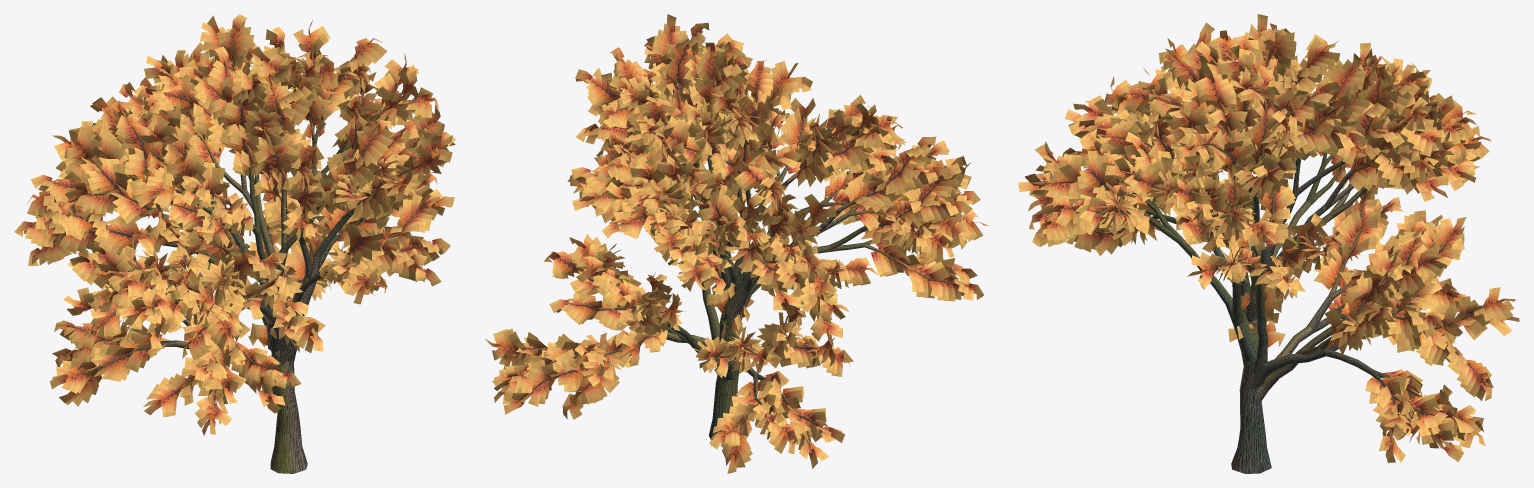
File: Tree_4.fbx
3 views of the same model, side by side, from view 1: azimuth 30°, elevation 25°; view 2: azimuth 150°, elevation 25°; view 3: azimuth 270°, elevation 25° (orthographic). The views are drawn at different scales.
Parts seen in each view (by area): view 1: oakWhiteMedium2Leaf, oakWhiteMedium2Main; view 2: oakWhiteMedium2Leaf, oakWhiteMedium2Main; view 3: oakWhiteMedium2Leaf, oakWhiteMedium2Main.
Boxes of the visible parts, x1,y1,x2,y2 form: oakWhiteMedium2Leaf: [14, 14, 455, 435]; oakWhiteMedium2Main: [43, 37, 433, 473]; oakWhiteMedium2Leaf: [485, 14, 988, 473]; oakWhiteMedium2Main: [503, 39, 957, 451]; oakWhiteMedium2Leaf: [1018, 14, 1519, 462]; oakWhiteMedium2Main: [1040, 44, 1486, 473].
Size of the model in its own units: 4.24 by 4.41 by 4.57.
